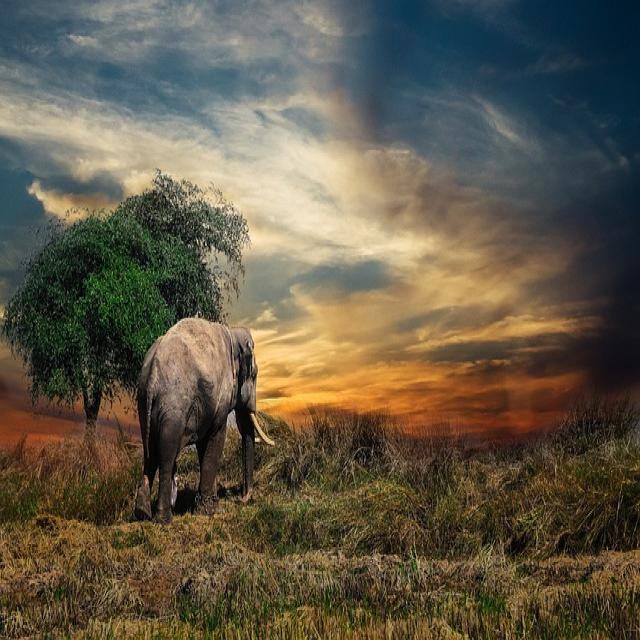Herbivorous: (135, 319, 265, 525)
